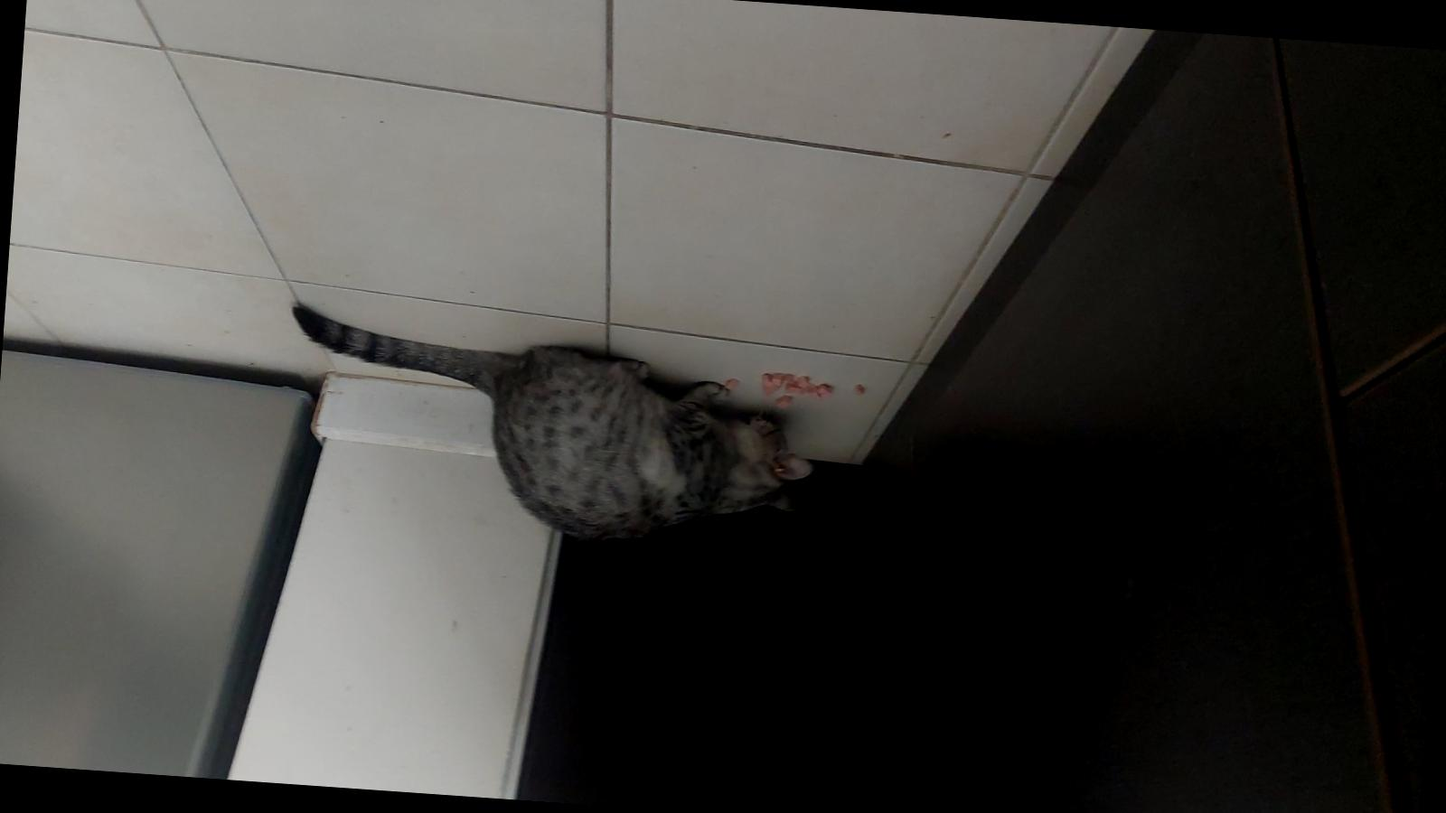macka: (275, 303, 823, 558)
